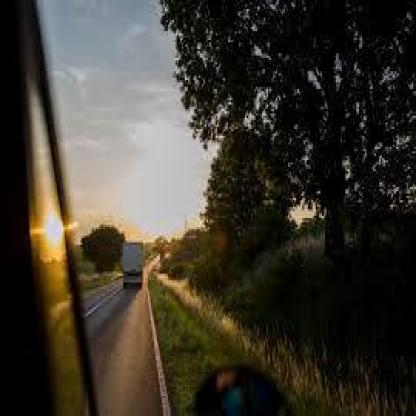other: (28, 182, 70, 274)
